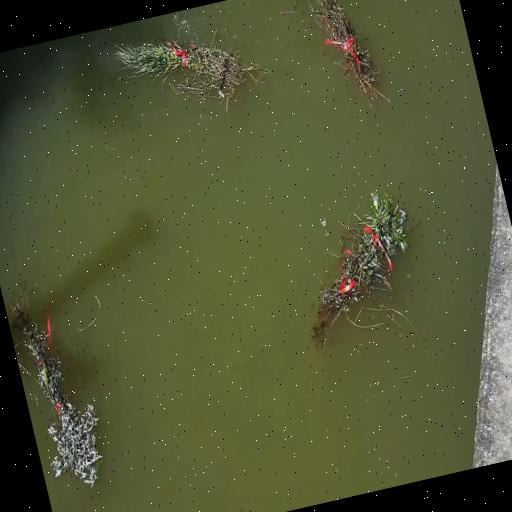twig: (281, 183, 436, 359), (1, 272, 118, 498), (108, 7, 266, 131), (302, 0, 391, 120), (276, 0, 312, 19)
